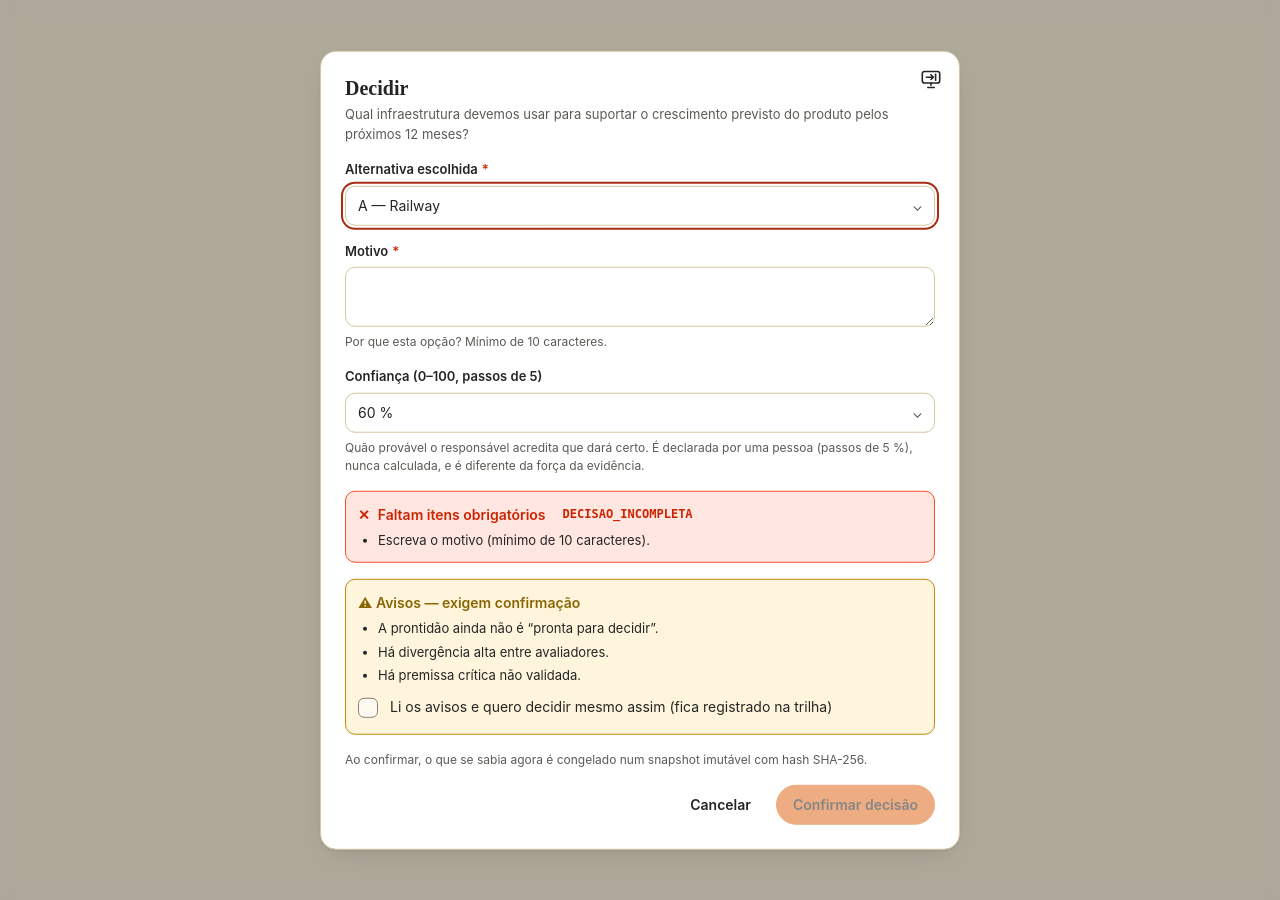
Test case: Guarda pré-decisão no diálogo Decidir › alternativa descartada bloqueia
The width and height of the screenshot is (1280, 900).
Select "D — Adiar a migração (Descartada)" in the dropdown labelled "Alternativa escolhida*". click: (640, 205)
box: [345,185,935,225]
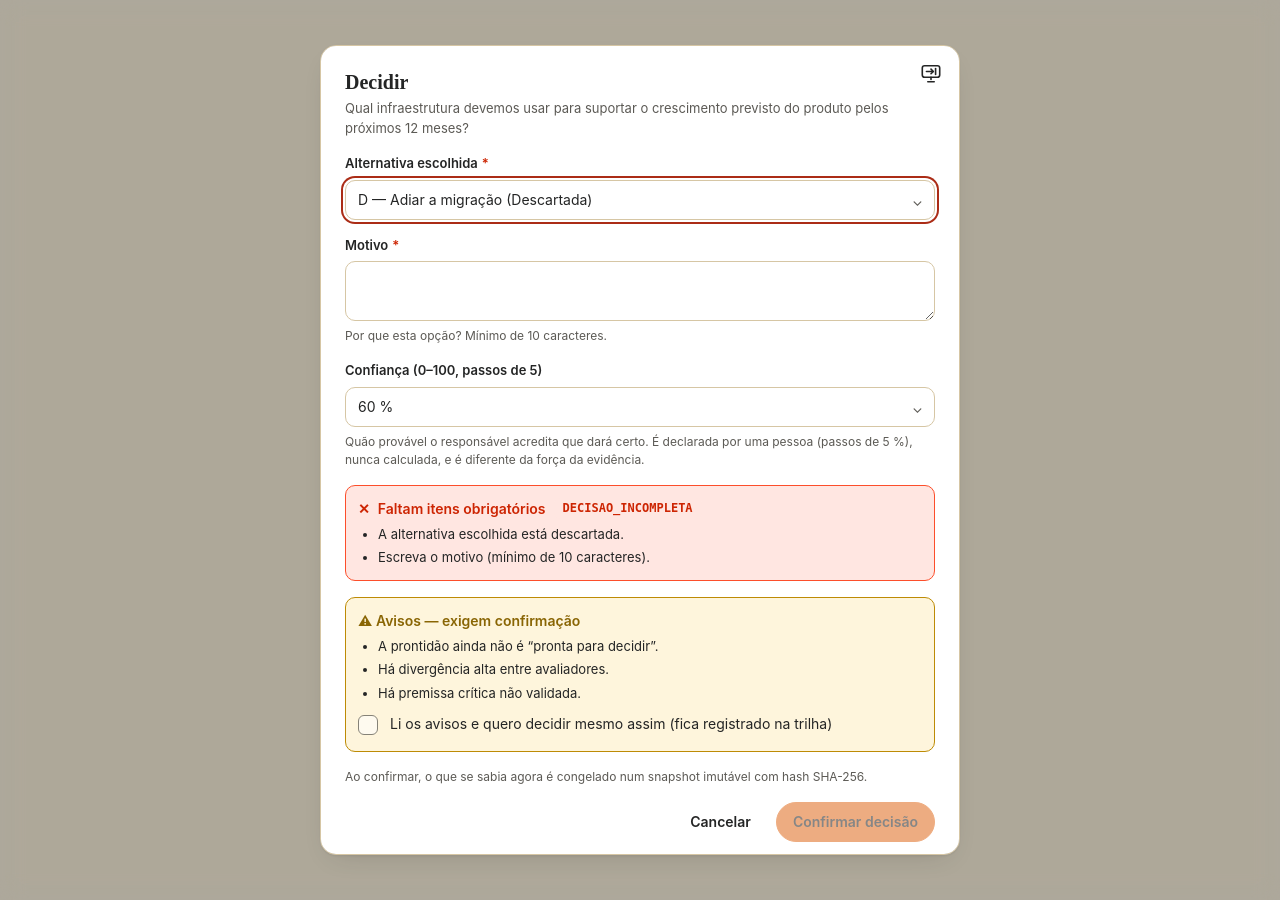
Check: the message with test id "guard-blocking" shows "está descartada", box [378,526,624,542]
